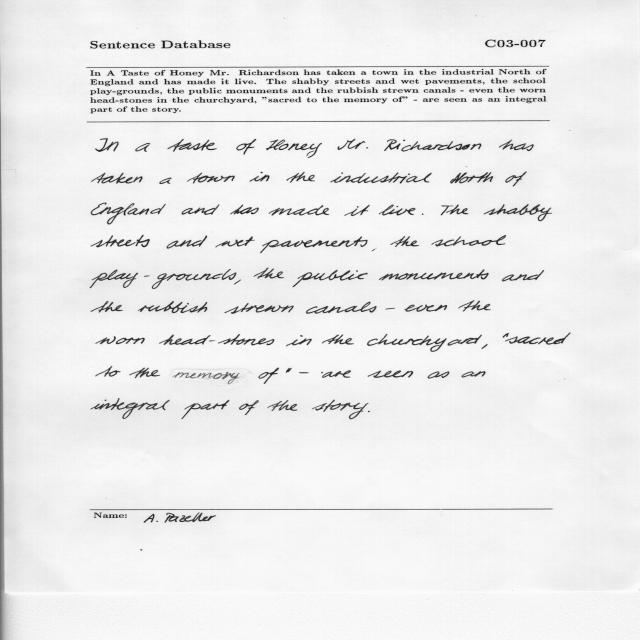word: (90, 269, 236, 289), (367, 334, 482, 352), (260, 237, 368, 254), (91, 398, 169, 419), (91, 203, 166, 224), (293, 270, 368, 287), (159, 334, 274, 345), (384, 139, 481, 152), (379, 270, 489, 281), (484, 204, 552, 221), (330, 173, 432, 184), (266, 139, 322, 158), (312, 400, 368, 419), (181, 400, 229, 419), (306, 302, 377, 314), (138, 301, 207, 313), (432, 235, 507, 246), (173, 372, 240, 384), (505, 333, 571, 345), (225, 303, 294, 314), (91, 235, 150, 247), (269, 205, 329, 216), (167, 139, 217, 152), (92, 173, 143, 184), (187, 173, 235, 184), (167, 236, 207, 249), (450, 172, 493, 184), (502, 270, 544, 281), (216, 237, 255, 248), (182, 204, 220, 215), (379, 205, 415, 216), (458, 300, 491, 312), (96, 336, 145, 344), (499, 140, 534, 151), (368, 370, 413, 378), (91, 301, 123, 312), (259, 367, 279, 384), (338, 139, 368, 150), (505, 172, 527, 187), (254, 268, 284, 279), (268, 400, 298, 411), (96, 138, 119, 152), (236, 139, 256, 155), (322, 335, 354, 345), (390, 236, 419, 247), (129, 368, 160, 378), (287, 172, 315, 183), (404, 305, 447, 312), (239, 400, 259, 415), (441, 205, 468, 216), (230, 205, 259, 215), (344, 205, 370, 216), (286, 335, 312, 346), (96, 366, 121, 377), (321, 370, 351, 378), (250, 172, 270, 182), (462, 371, 486, 378), (428, 372, 449, 379), (136, 143, 151, 152), (160, 178, 172, 184), (234, 280, 241, 285), (481, 344, 488, 349), (503, 333, 509, 338), (286, 368, 292, 373), (385, 308, 395, 309), (299, 372, 309, 373), (372, 249, 376, 251), (422, 213, 423, 215), (368, 411, 370, 412)
